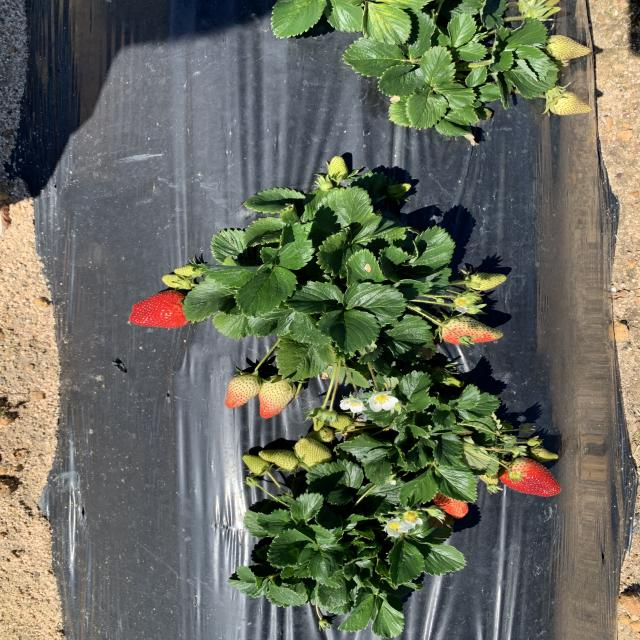unripe: (126, 290, 198, 328), (501, 458, 562, 500), (433, 487, 471, 519)
